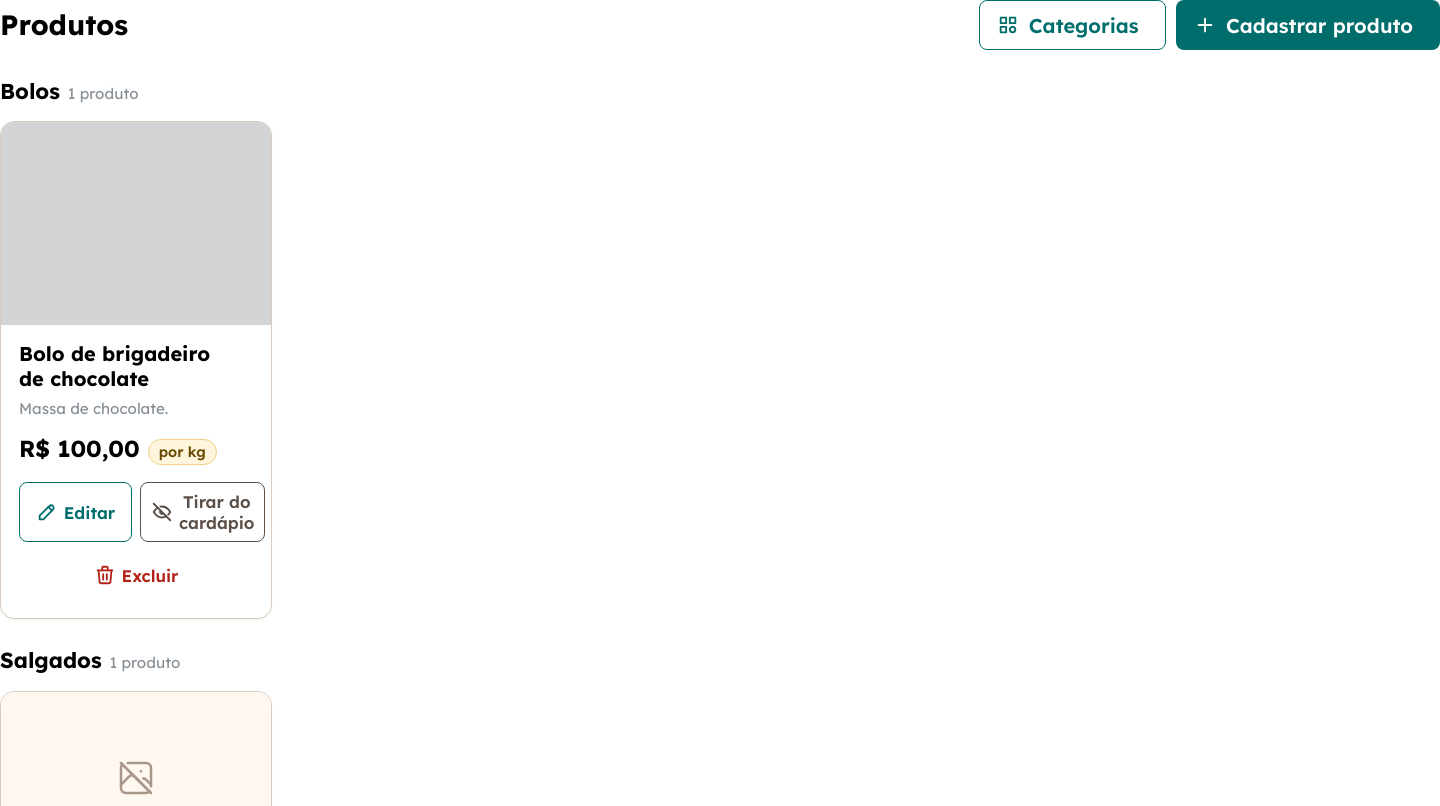
Test case: Lista de produtos (ZAP-41, RF05, RF06) › exclui o produto do cardápio depois de confirmar (RN14)
This screenshot has width=1440, height=806.
Click the button with aria-label "Excluir Bolo de brigadeiro de chocolate" at (136, 576), box [19,550,253,600]
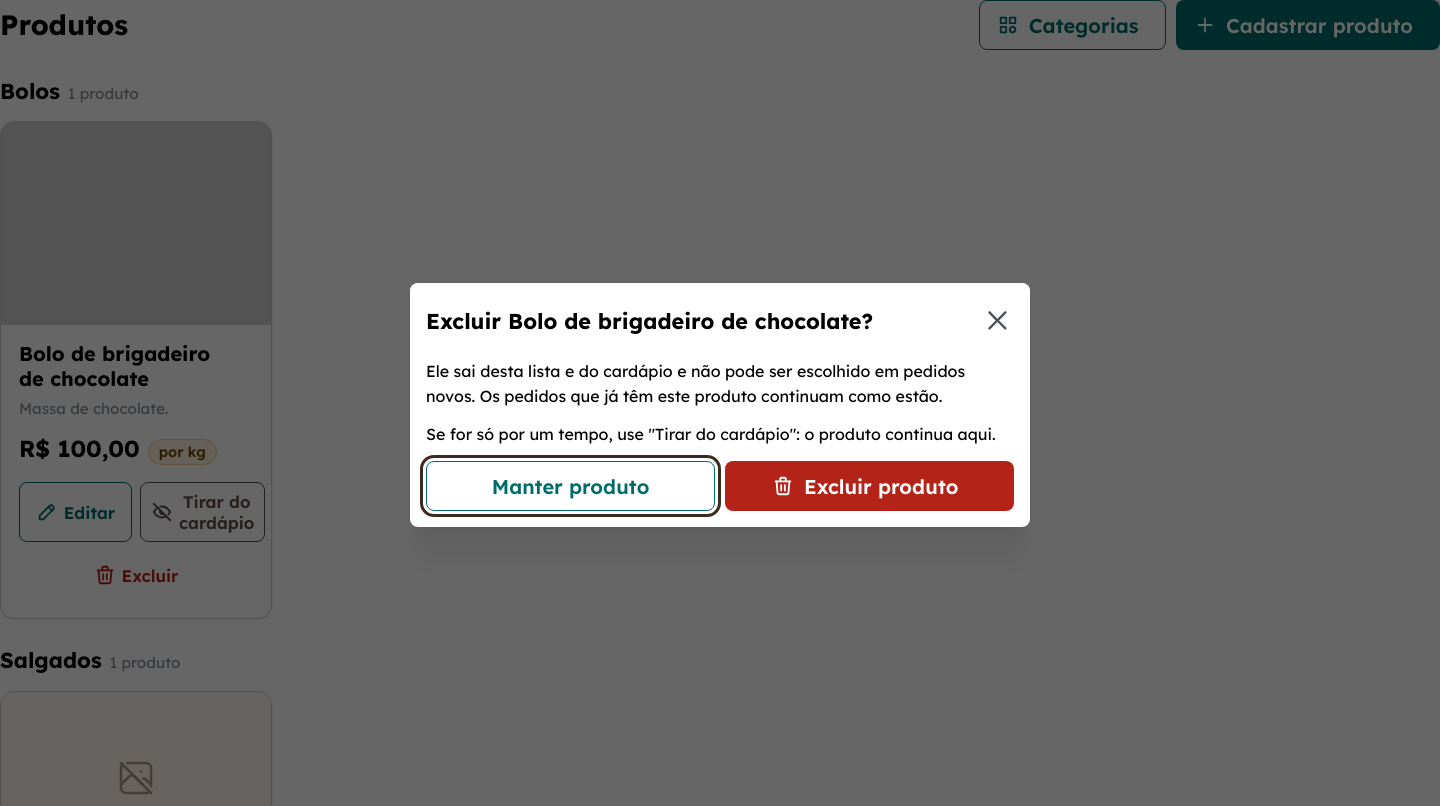
Now the text "Se for só por um tempo, use \"Tirar do cardápio\"" is shown, box [426,424,996,444]
Click the button "Excluir produto" at (870, 486), box [725,461,1014,511]
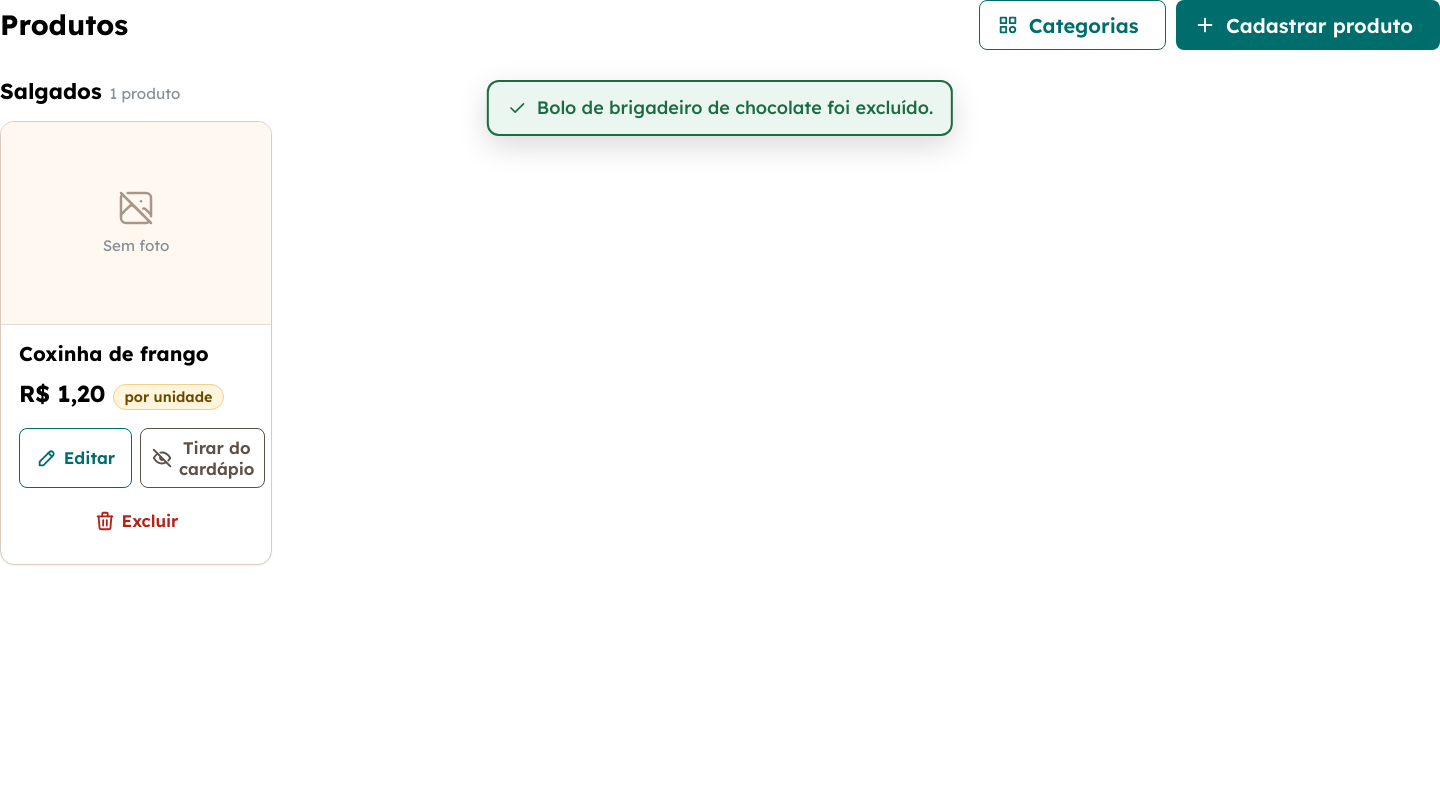
Now the text "Bolo de brigadeiro de chocolate foi excluído." is shown, box [487,80,953,136]
